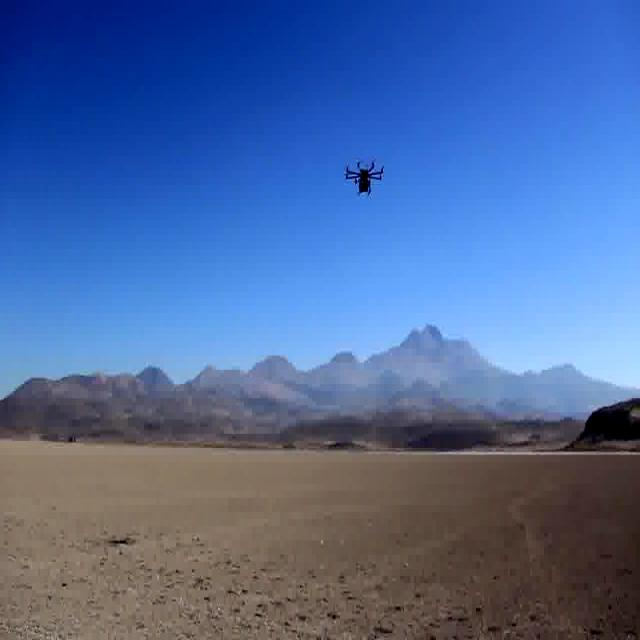drone: (342, 154, 387, 203)
